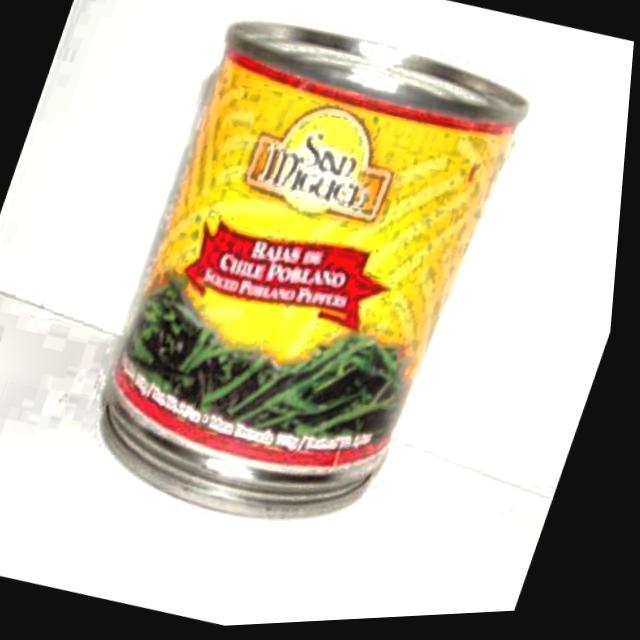Cans: (79, 12, 525, 558)
